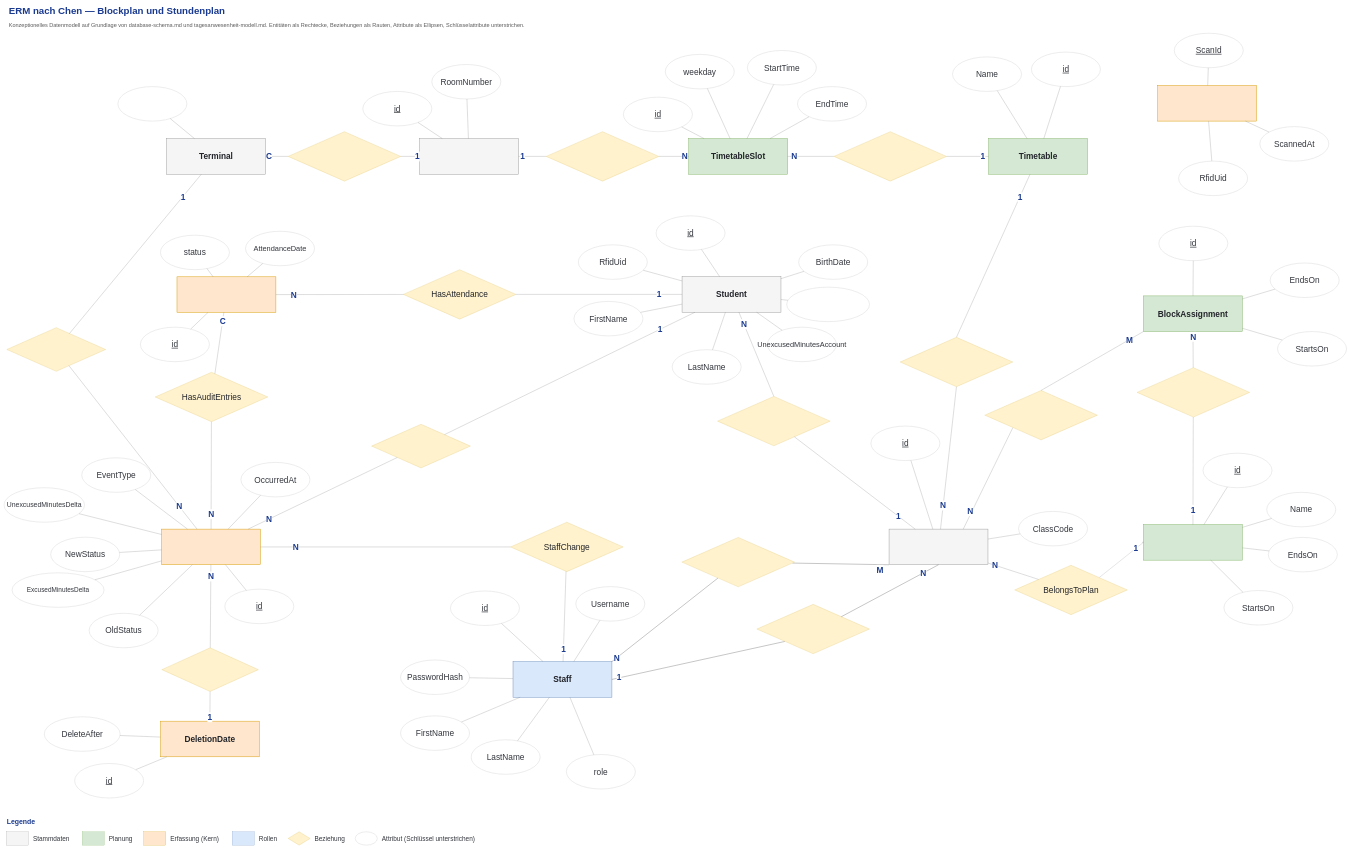
The diagram is 1351 pixels wide and 849 high, and some of its shapes have lost their labels. Each missing label, with the centre of its shape:
Attendance: point (226, 294)
AttendanceAudit: point (211, 547)
AuditsStudent: point (420, 446)
BlockPlan: point (1192, 542)
ExcusedMinutesAccount: point (828, 304)
HasAssignments: point (1193, 392)
HasBlockAssignment: point (1041, 415)
HasDeletionDate: point (210, 669)
HasSlots: point (890, 156)
HasStudents: point (773, 421)
HasTerminal: point (344, 156)
IsClassTeacherOf: point (813, 629)
RawScan: point (1207, 103)
Room: point (469, 156)
SchoolClass: point (938, 547)
TeachesClass: point (738, 562)
TerminalChange: point (56, 349)
TerminalId: point (152, 103)
UsesRoom: point (602, 156)
UsesTimetable: point (956, 362)
